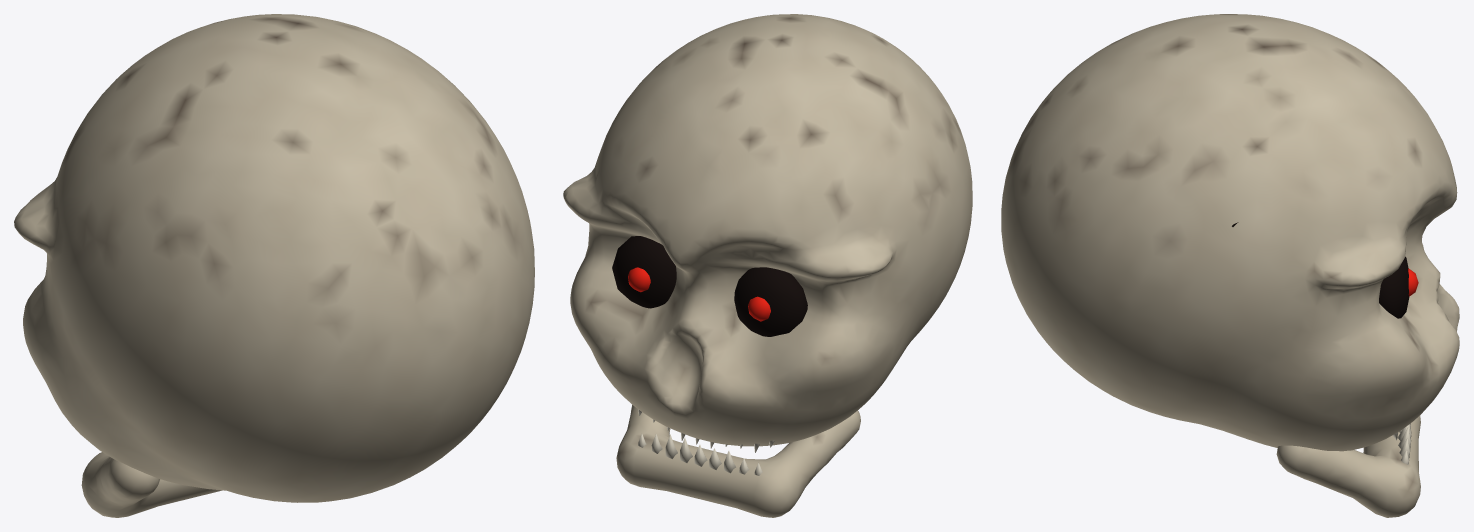
The model's file is dungeon_guardian.glb.
The picture shows the model from 3 angles, left to right: view 1: azimuth 30°, elevation 25°; view 2: azimuth 150°, elevation 25°; view 3: azimuth 270°, elevation 25°; orthographic projection. The views are drawn at different scales.
Parts seen in each view (by area): view 1: dungeon_guardian; view 2: dungeon_guardian; view 3: dungeon_guardian.
Part boxes in pixels (x1,y1,x2,y2): dungeon_guardian: (14,14,534,517); dungeon_guardian: (563,14,972,517); dungeon_guardian: (1001,14,1459,517).
Size of the model in its own units: 2.11 by 2.59 by 2.4.
